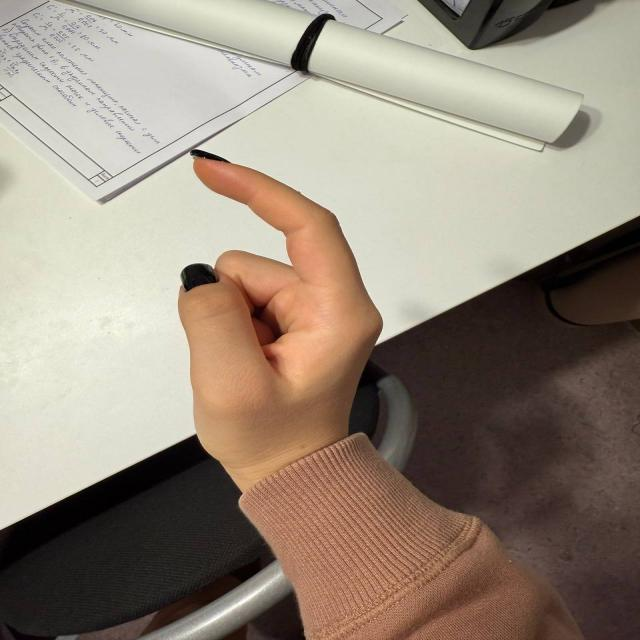kh: (167, 143, 389, 515)
